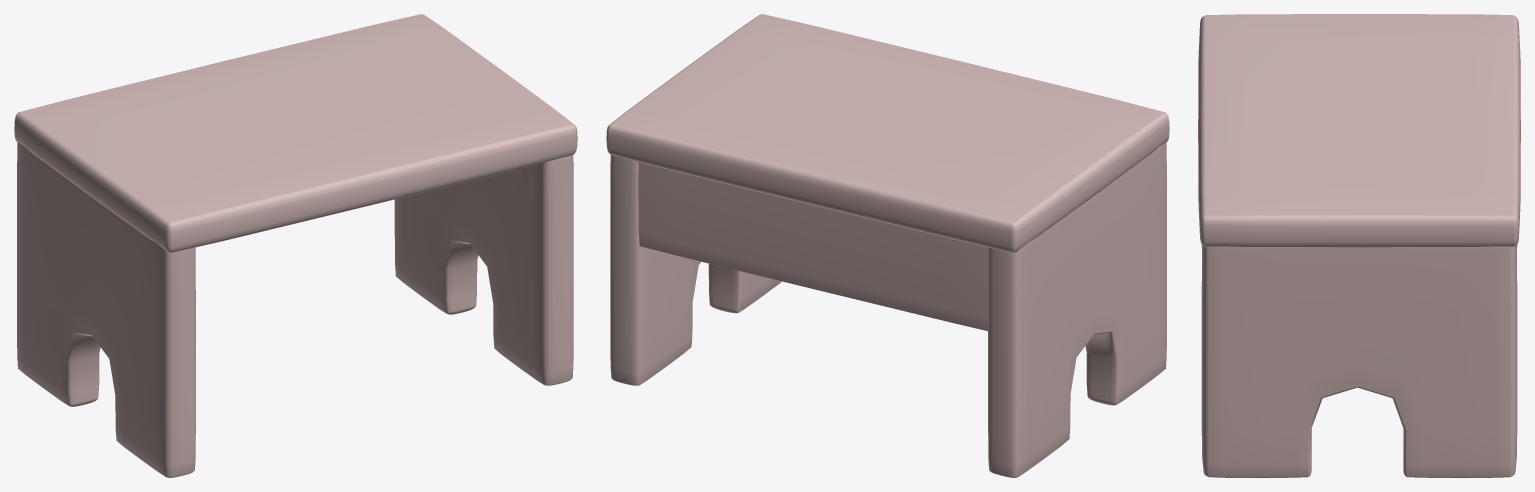
The model's file is pink_desk.fbx.
3 views of the same model, side by side, from view 1: azimuth 30°, elevation 25°; view 2: azimuth 150°, elevation 25°; view 3: azimuth 270°, elevation 25° (orthographic). The views are drawn at different scales.
Parts seen in each view (by area): view 1: polySurface1; view 2: polySurface1; view 3: polySurface1.
Boxes of the visible parts, <box> form: polySurface1: <box>14,14,577,477</box>; polySurface1: <box>606,14,1169,477</box>; polySurface1: <box>1198,14,1520,477</box>.
Size of the model in its own units: 2.34 by 1.4 by 1.54.
